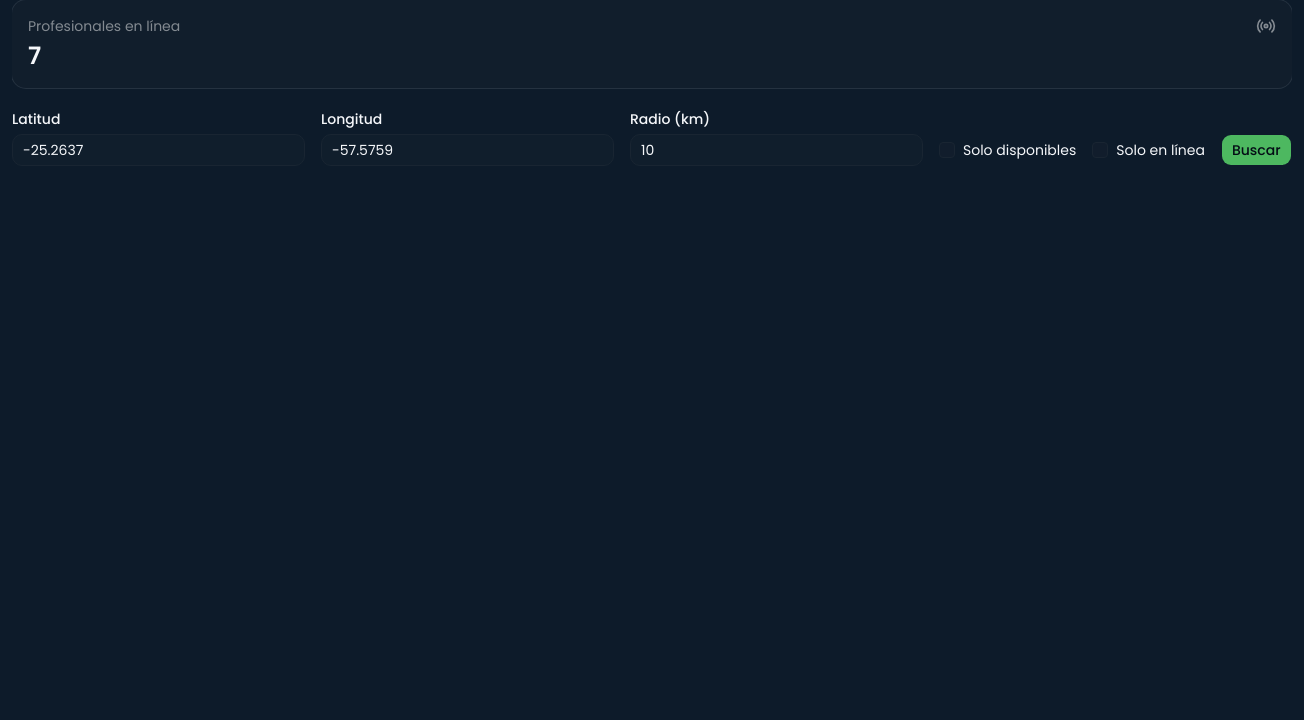
Scenario: LocationsExplorer › muestra el conteo de profesionales encontrados luego de buscar
The width and height of the screenshot is (1304, 720).
expect the text "Profesionales en línea" is shown: met, box [28,16,180,36]
Click the button "Buscar". click: {"x": 1256, "y": 150}
box: [1221,134,1292,166]
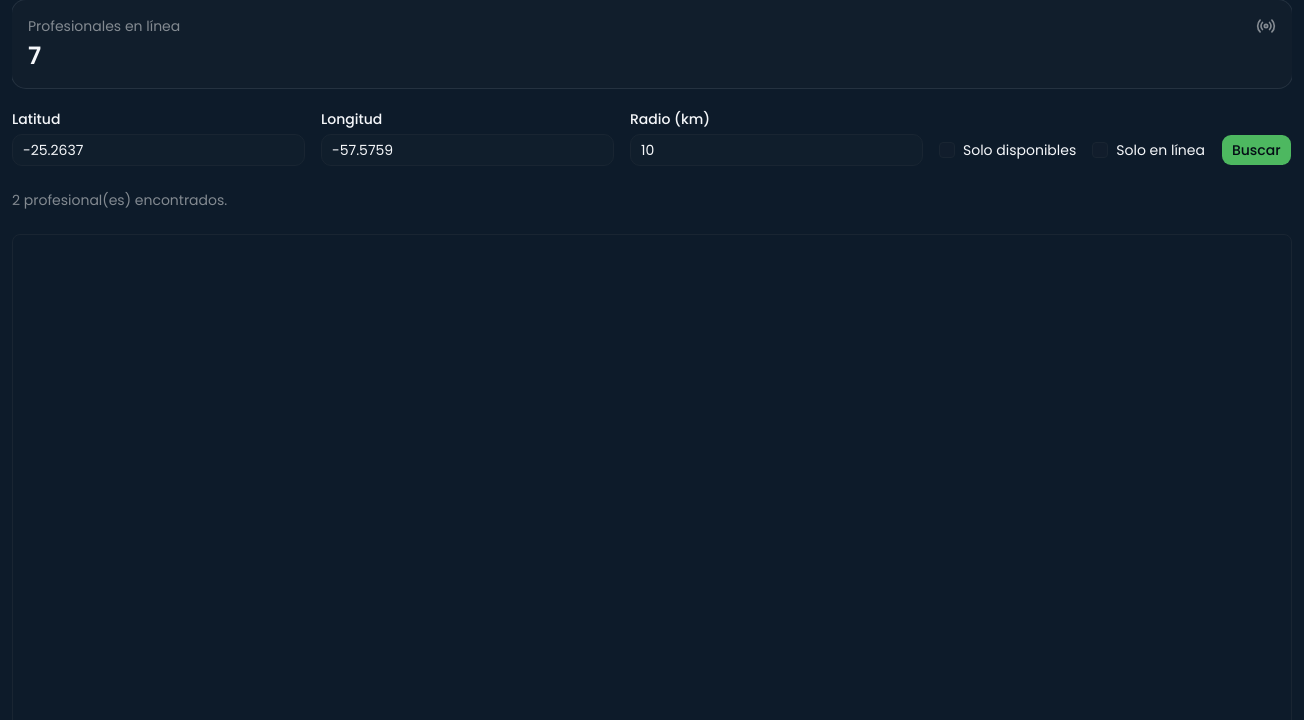
expect the text "2 profesional(es) encontrados." is shown: met, box [12,190,227,210]
